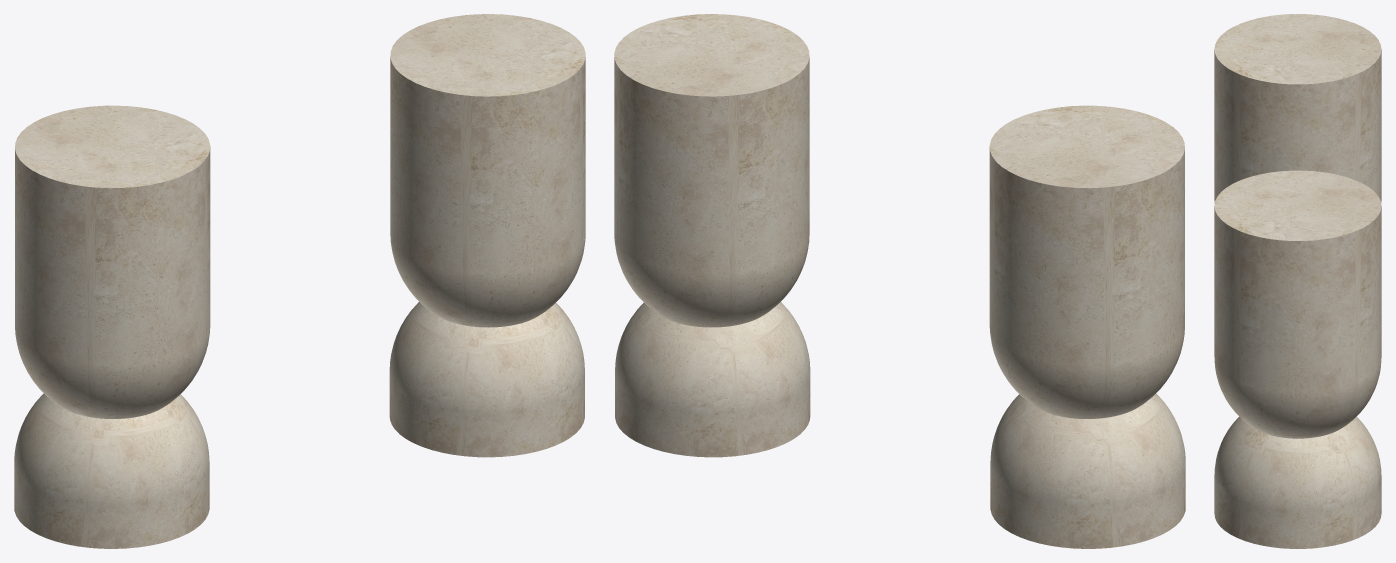
File: hourglass-leg-single.glb
3 views of the same model, side by side, from view 1: azimuth 30°, elevation 25°; view 2: azimuth 150°, elevation 25°; view 3: azimuth 270°, elevation 25° (orthographic). The views are drawn at different scales.
Parts seen in each view (by area): view 1: Bacak-TwistBase; view 2: Bacak-TwistBase; view 3: Bacak-TwistBase.
Part boxes in pixels (x1,y1,x2,y2): Bacak-TwistBase: [14, 14, 585, 548]; Bacak-TwistBase: [614, 14, 1185, 548]; Bacak-TwistBase: [1214, 14, 1381, 548].
Bounding box in the file's own units: 0.1288 × 0.0814 × 0.04.
Materials: 1 (1 with a texture image).
